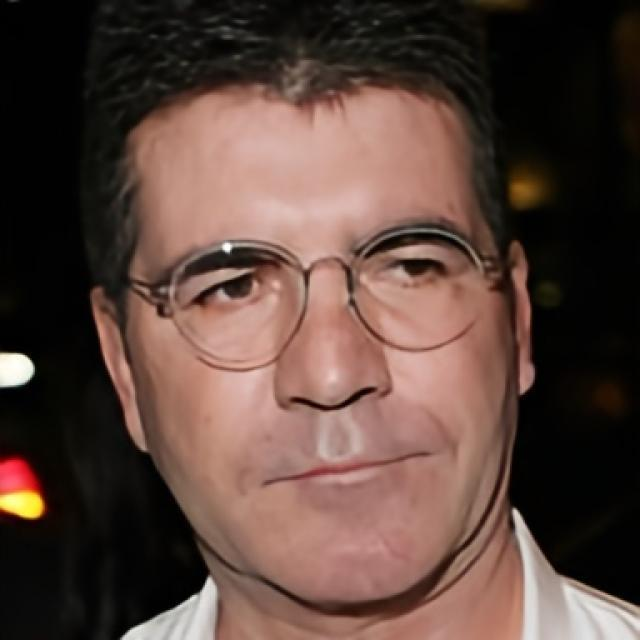content: (125, 83, 512, 602)
